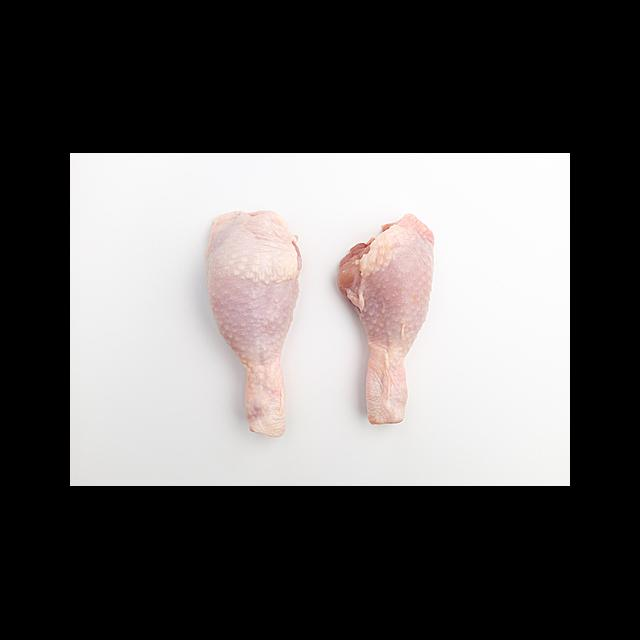chicken: (206, 209, 302, 439), (336, 213, 435, 426)
